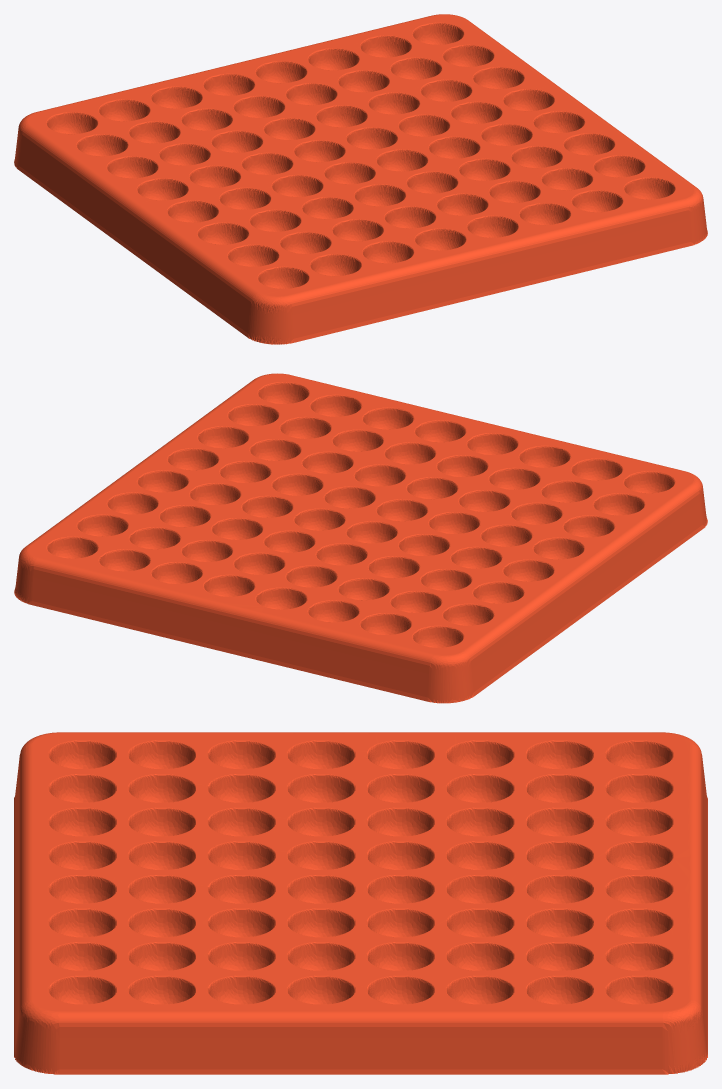
Rendered from mold.glb.
3 views of the same model, one above another, from view 1: azimuth 30°, elevation 25°; view 2: azimuth 150°, elevation 25°; view 3: azimuth 270°, elevation 25° (orthographic). The views are drawn at different scales.
Visible parts, largest first — view 1: geometry_0; view 2: geometry_0; view 3: geometry_0.
Boxes of the visible parts, box(x1,y1,x2,y2) form: geometry_0: box(14, 14, 707, 344); geometry_0: box(14, 373, 707, 703); geometry_0: box(14, 732, 707, 1074).
Size of the model in its own units: 0.1355 by 0.012 by 0.1355.
